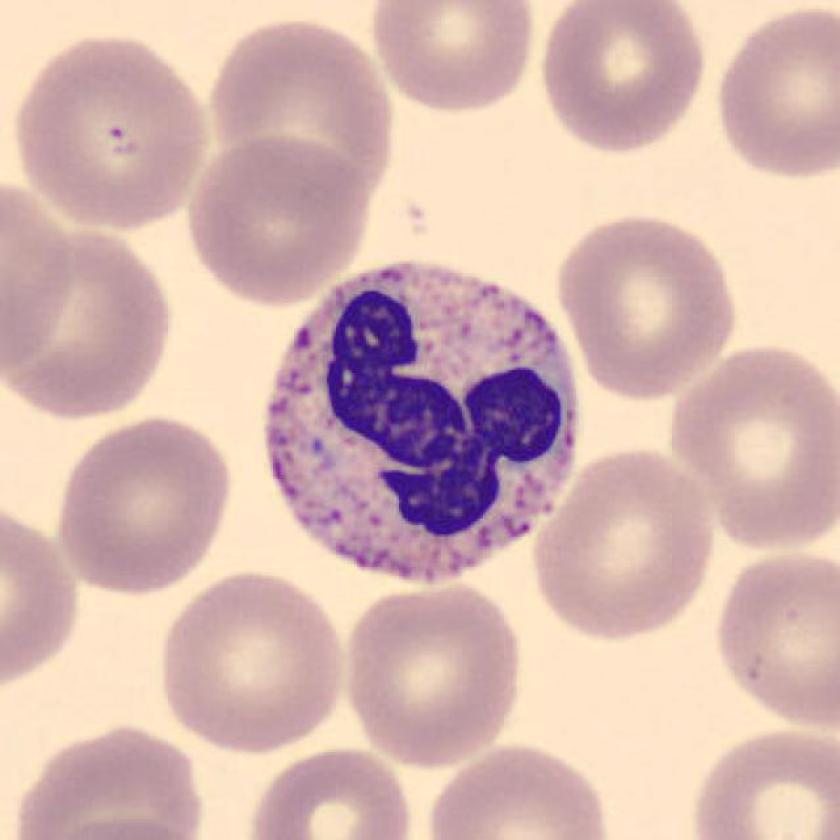neutrophil: (263, 262, 580, 580)
